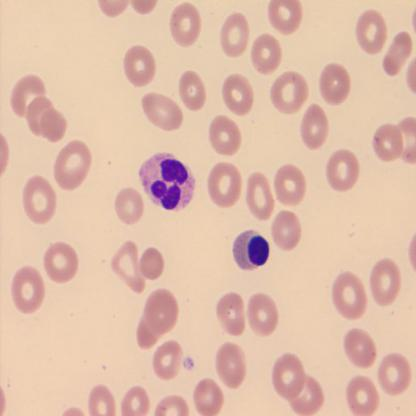NRC: (230, 227, 271, 274)
